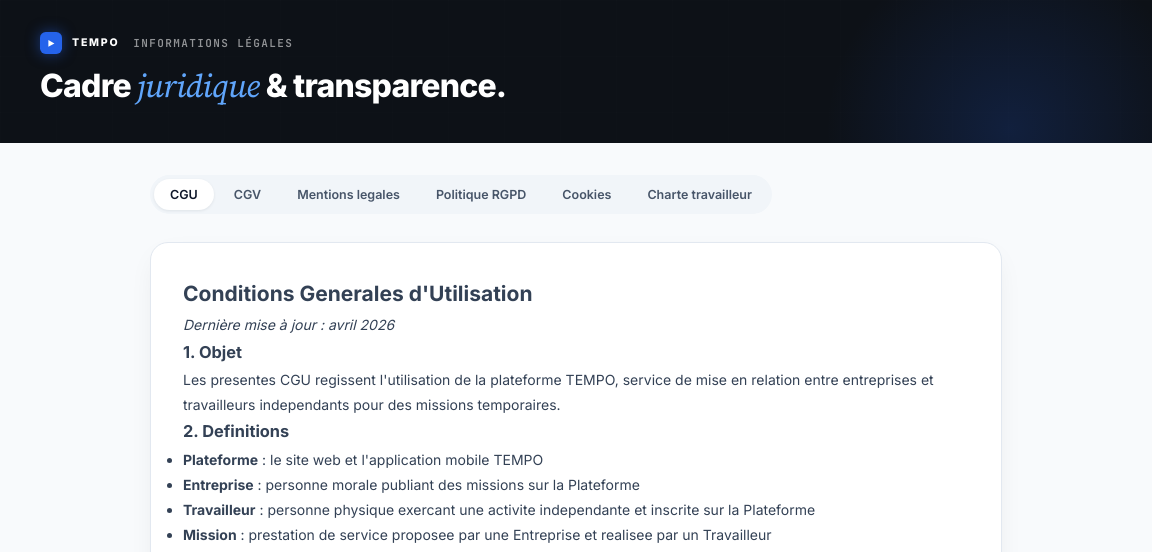
Test case: Legal page › switches to Cookies tab on click
The image size is (1152, 552).
Click the button "Cookies" at (587, 194), box x1=546 y1=179 x2=627 y2=210
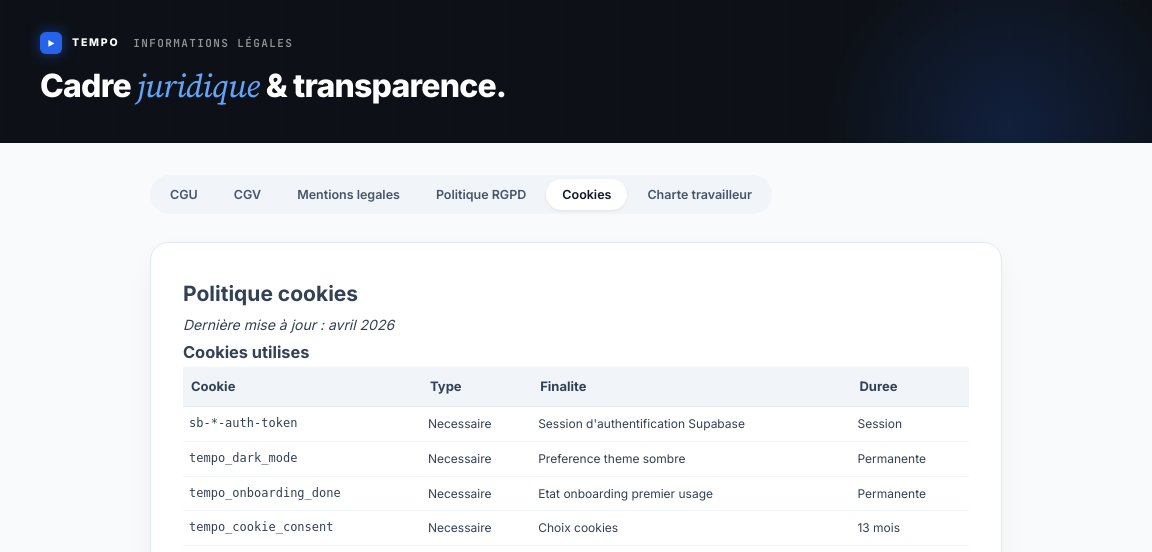
Now the heading "Politique cookies" is shown, box x1=183 y1=281 x2=358 y2=306
